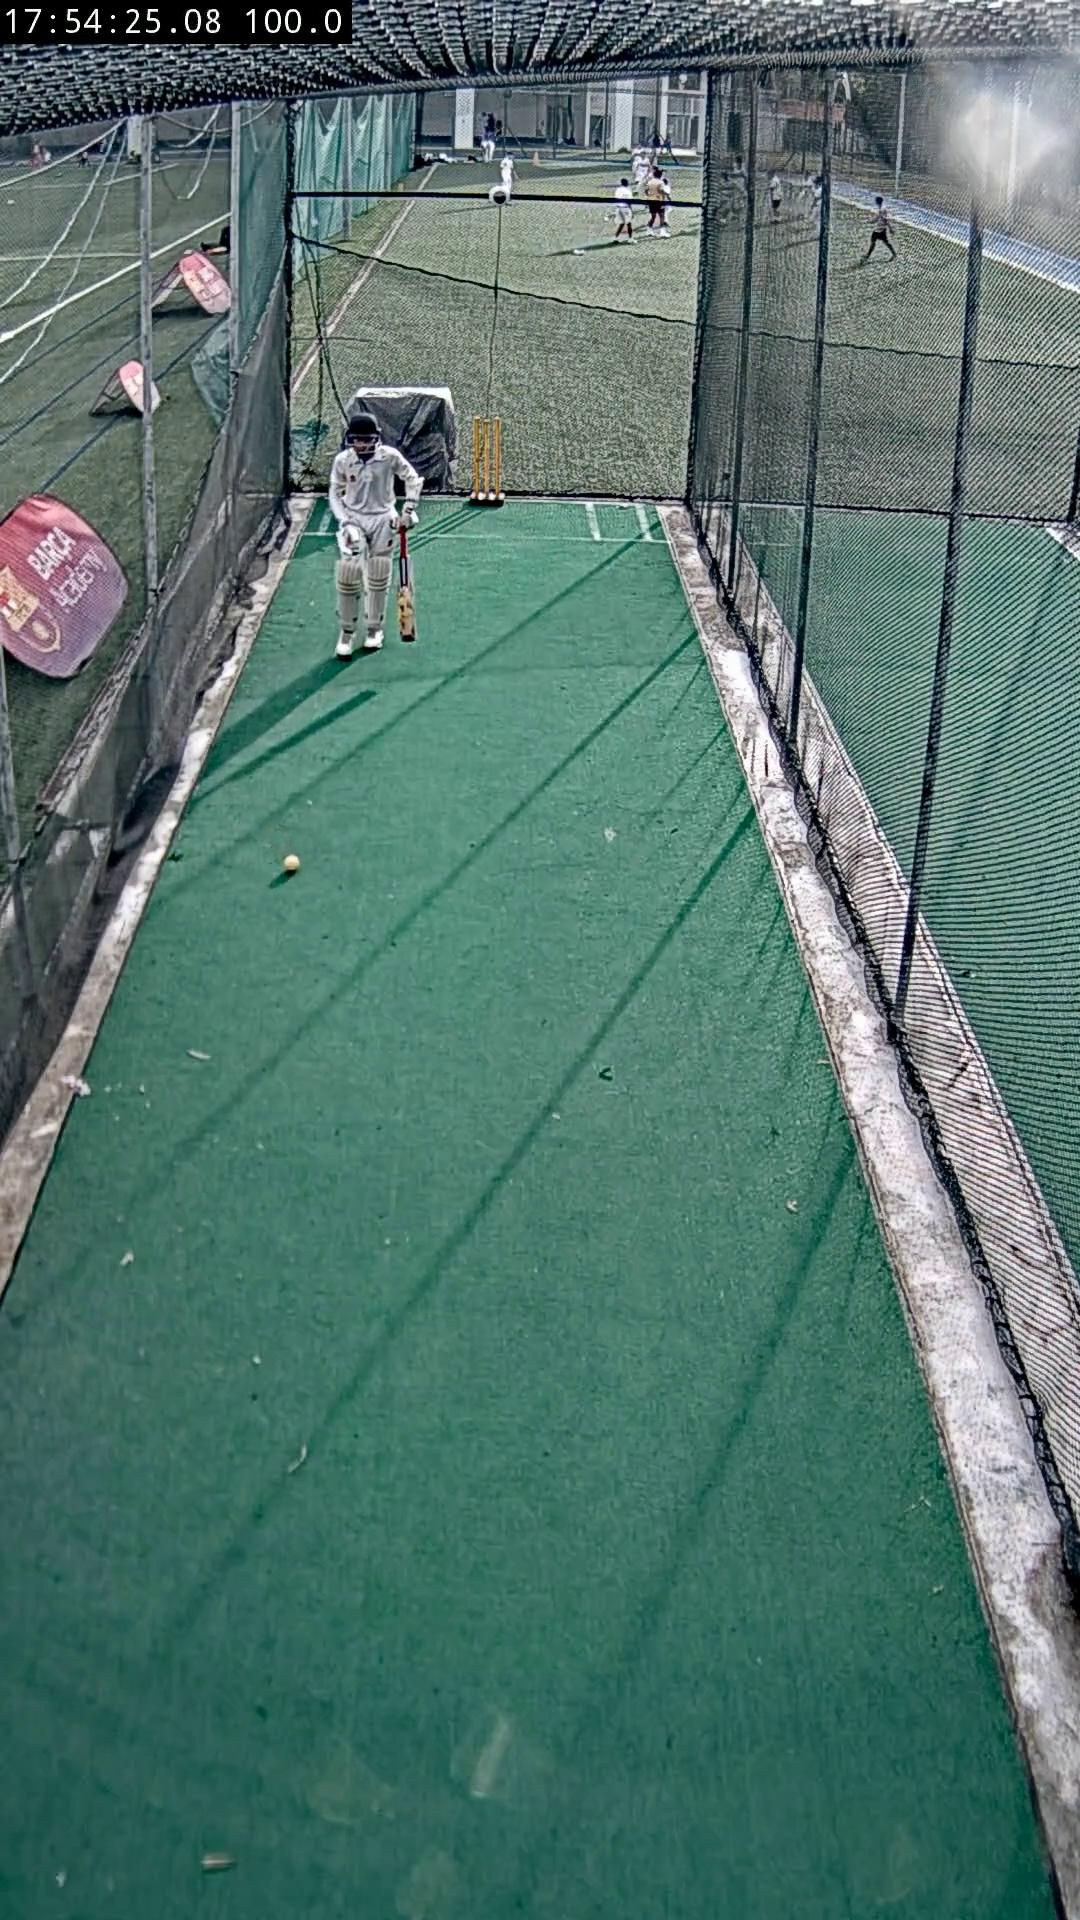ball: (281, 855, 301, 874)
bat: (397, 525, 417, 641)
gloves: (338, 525, 368, 553), (401, 510, 417, 529)
helmet: (348, 413, 378, 435)
pads: (334, 559, 364, 640), (364, 555, 390, 634)
stumps: (468, 417, 506, 506)
